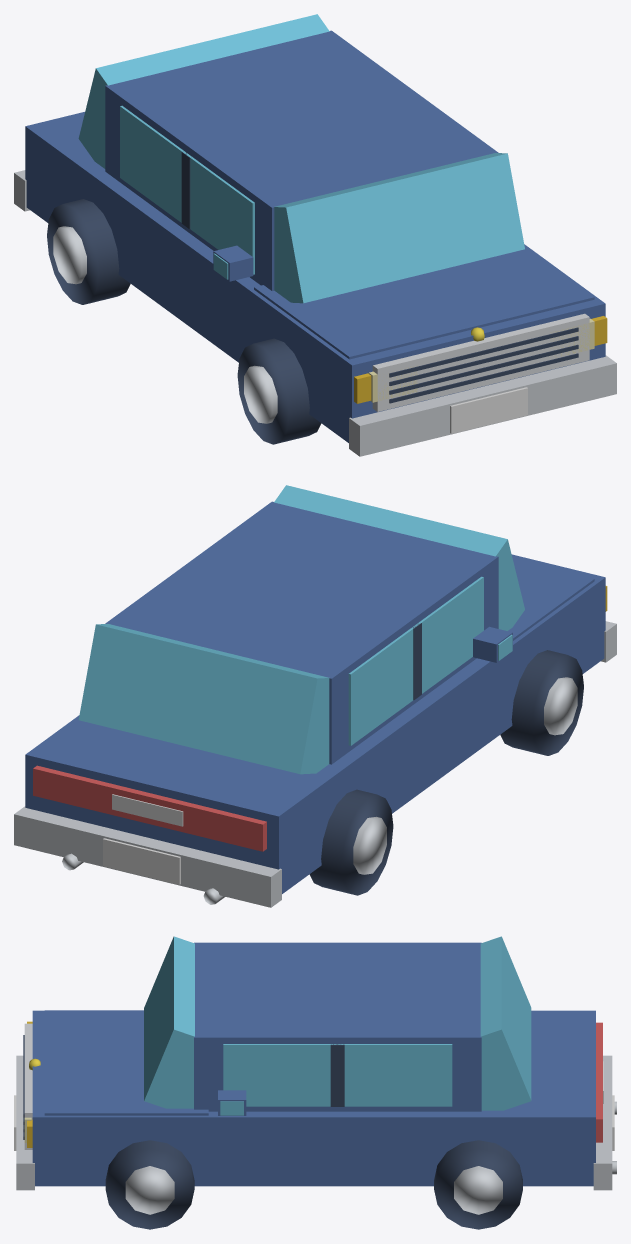
File: town-car.glb
The picture shows the model from 3 angles, top to bottom: view 1: azimuth 30°, elevation 25°; view 2: azimuth 150°, elevation 25°; view 3: azimuth 270°, elevation 25°; orthographic projection. The views are drawn at different scales.
Visible parts, largest first — view 1: Root; view 2: Root; view 3: Root.
Boxes of the visible parts, x1,y1,x2,y2 form: Root: (14, 14, 616, 456); Root: (14, 485, 616, 907); Root: (14, 936, 616, 1229).
Bounding box in the file's own units: 2.59 × 1.74 × 5.14.
